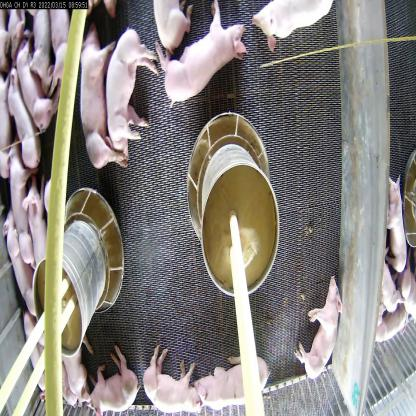Pig: (160, 9, 254, 108), (105, 20, 157, 156), (76, 30, 118, 178), (132, 334, 199, 416), (198, 342, 270, 415), (79, 340, 141, 415), (300, 279, 344, 380), (23, 186, 66, 286), (244, 0, 336, 46), (41, 7, 78, 109), (16, 36, 52, 123), (8, 84, 38, 164)
